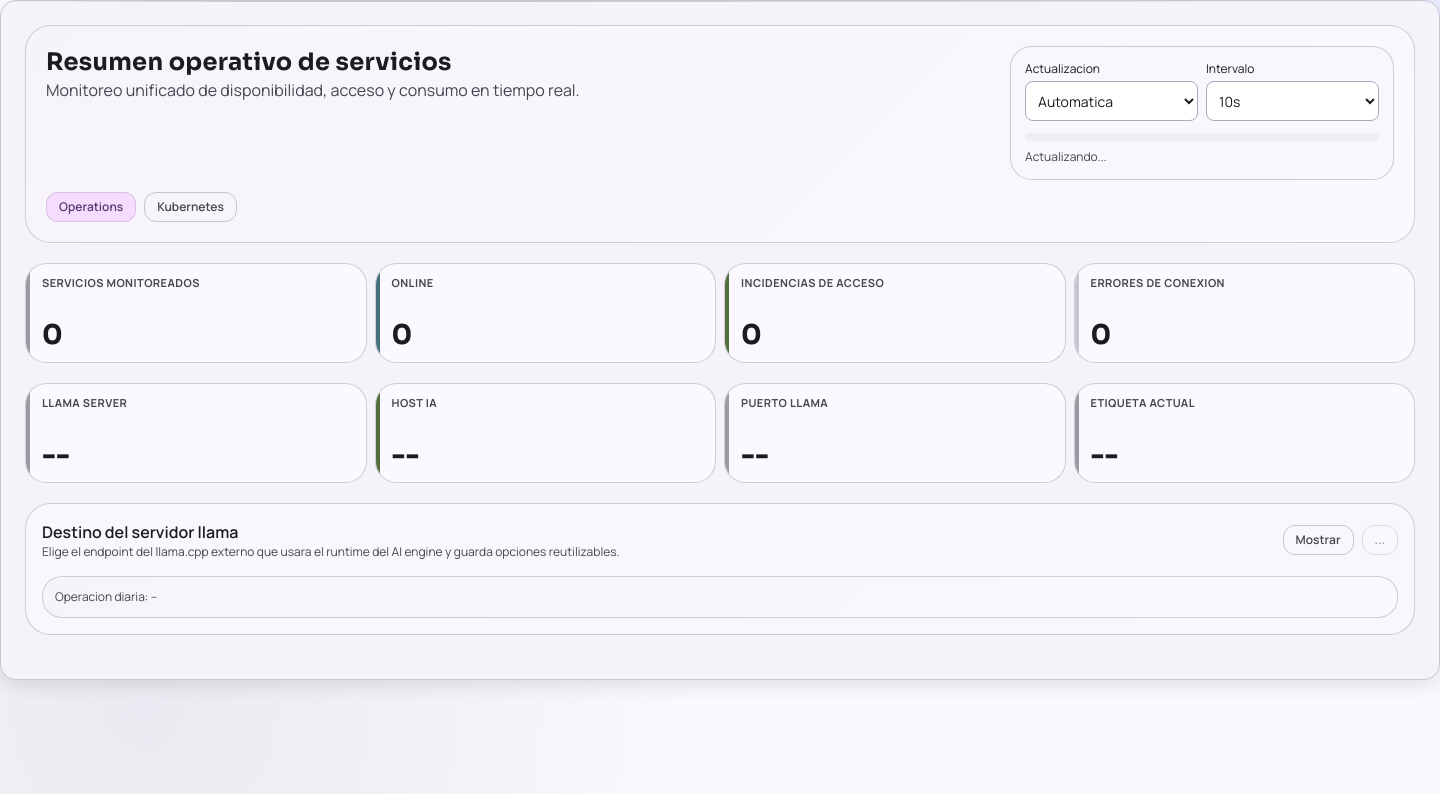
it: ServiceOverviewPanel integration › clears ai-target errors after a successful retry
The image size is (1440, 794).
Click the button "Mostrar": (1318,540) x1=1283 y1=525 x2=1354 y2=555
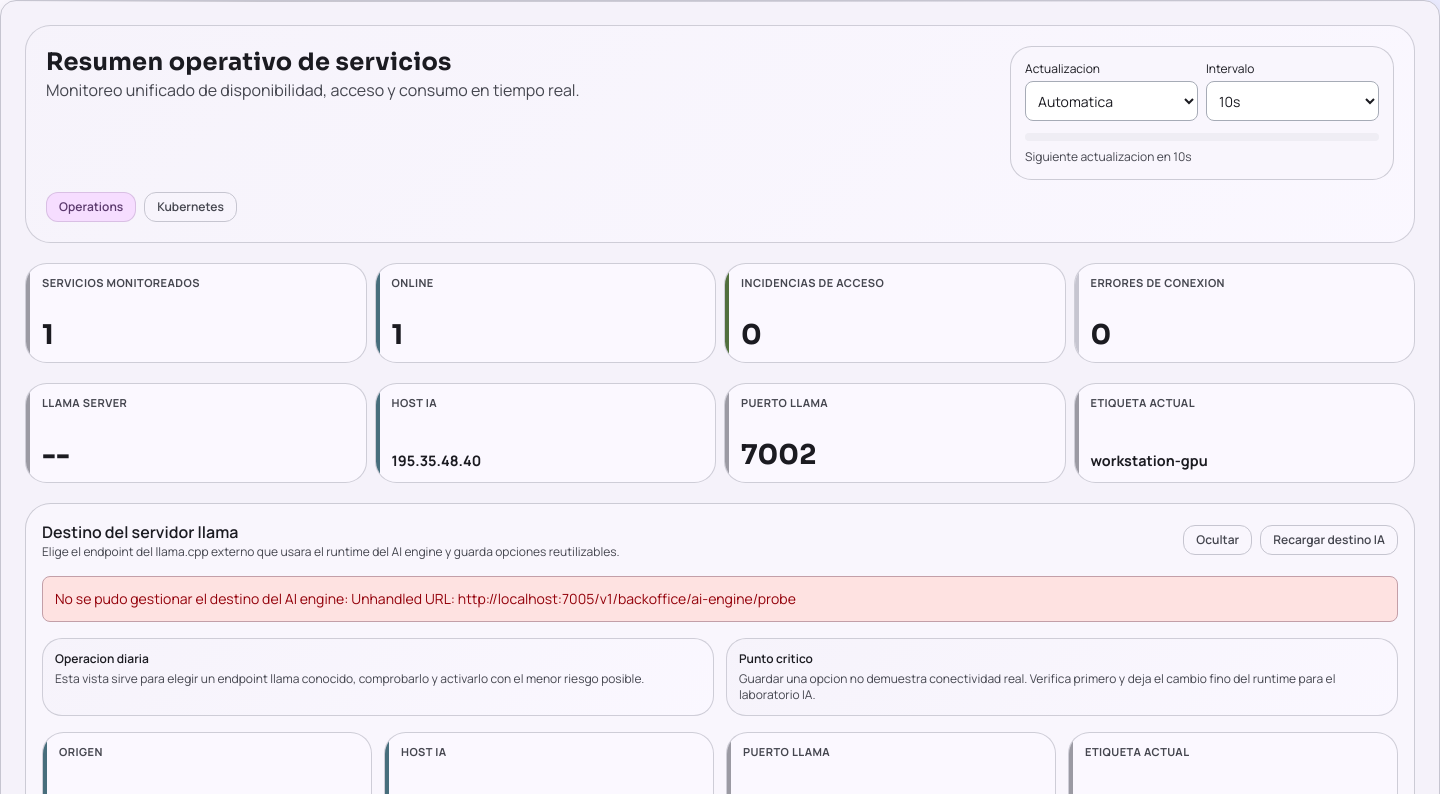
Now the text "No se pudo gestionar el destino del AI engine" is shown, box x1=55 y1=589 x2=344 y2=608
Click the button "Recargar destino IA": (1329,540) x1=1260 y1=525 x2=1398 y2=555
(page scrolled)
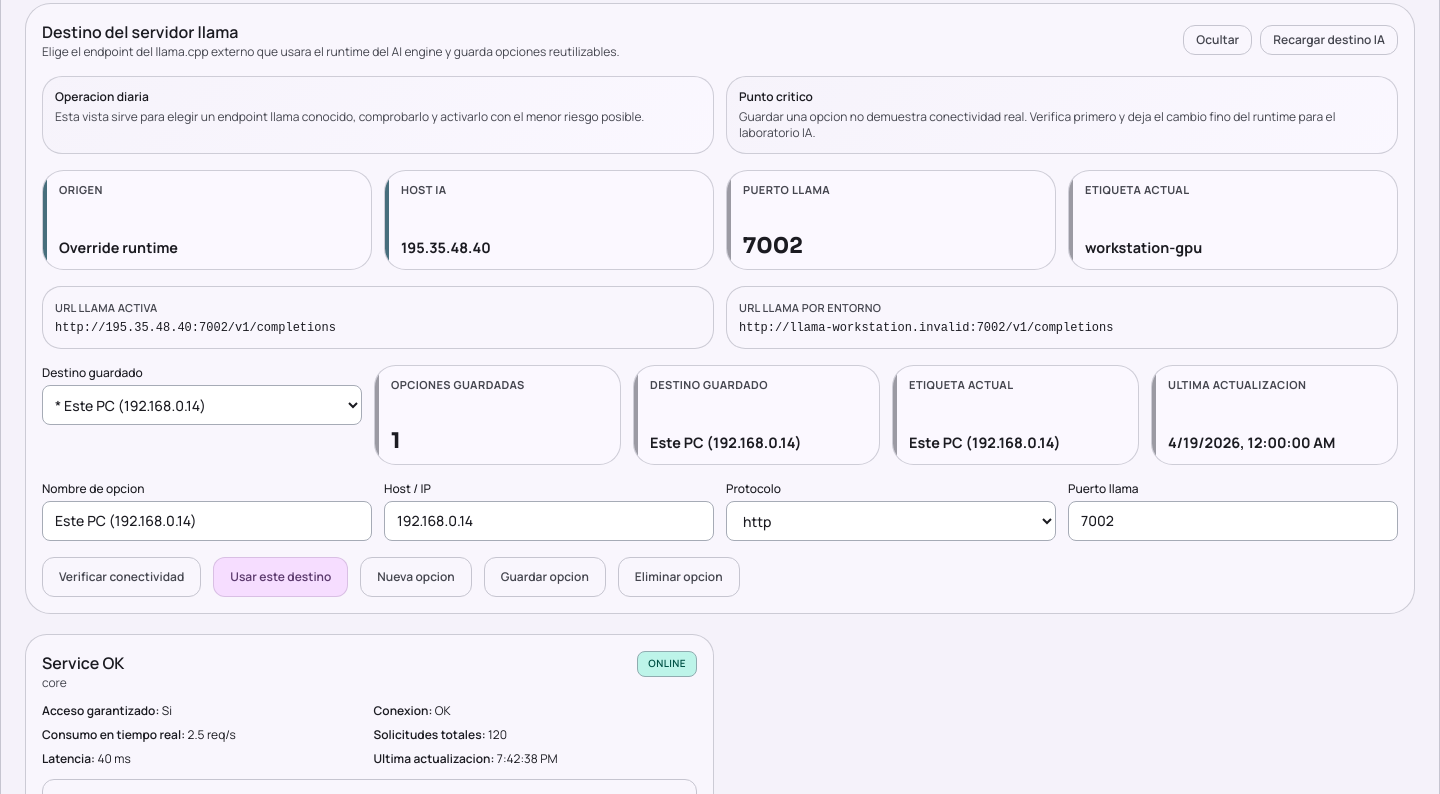
Now the text "No se pudo gestionar el destino del AI engine" is gone
Now the dropdown labelled "Destino guardado" shows "* Este PC (192.168.0.14)", box x1=42 y1=385 x2=362 y2=425
